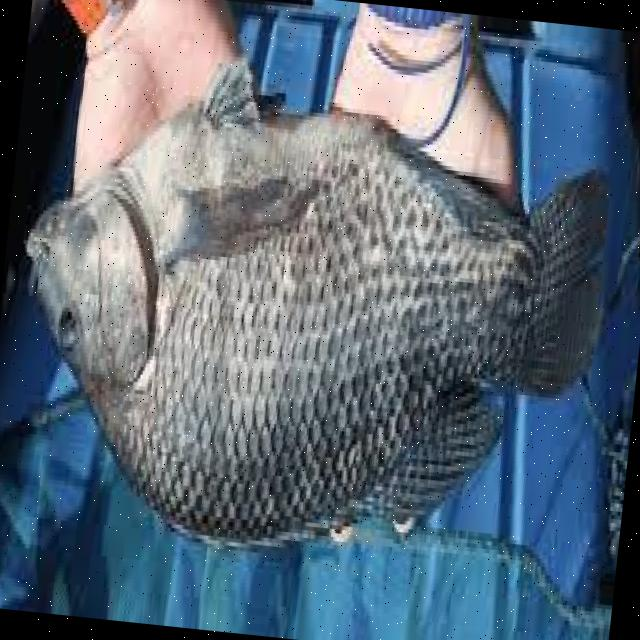ikan: (0, 28, 626, 589)
